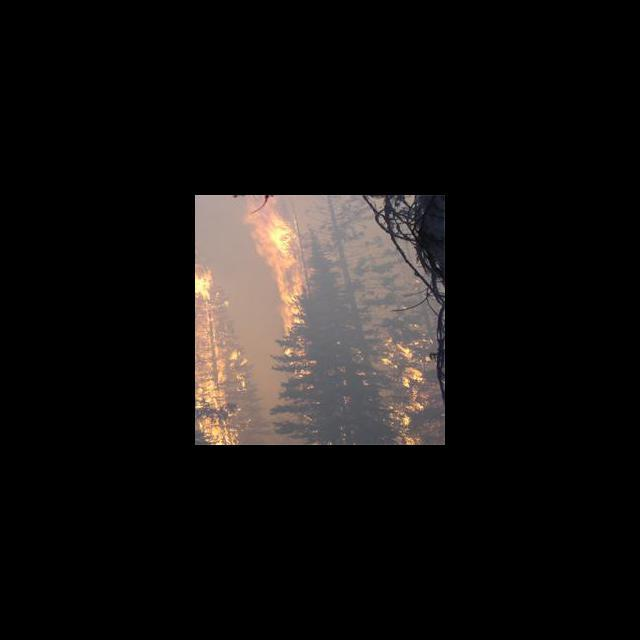Fire: (195, 195, 317, 444), (384, 315, 435, 445)
